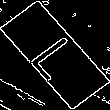L_NE: (23, 27, 87, 83)
